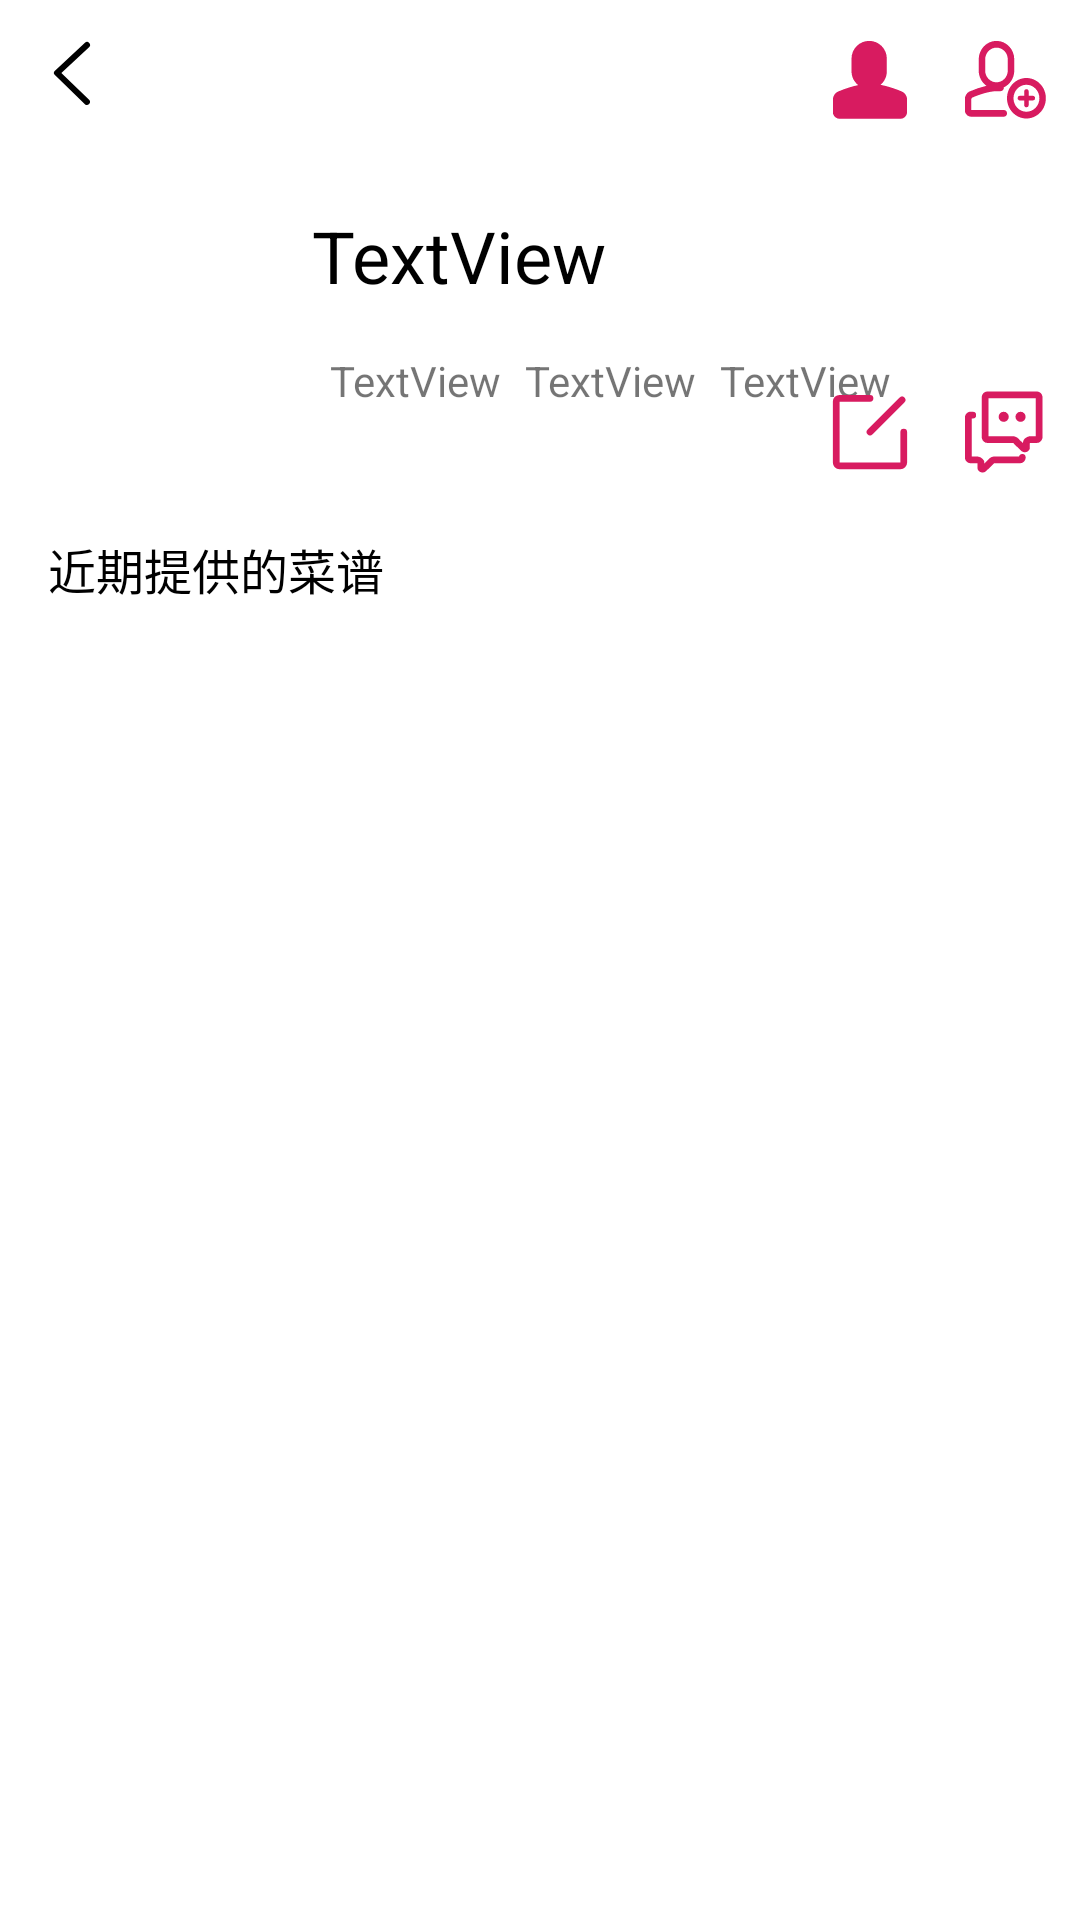

Icons on this 1080 × 1920 Android screen, each with its box as (x1, y1, x2, y2):
addpeople: (965, 41, 1046, 119)
editor: (830, 378, 908, 470)
interactive: (965, 391, 1043, 473)
people: (833, 41, 907, 119)
return: (54, 41, 90, 105)
